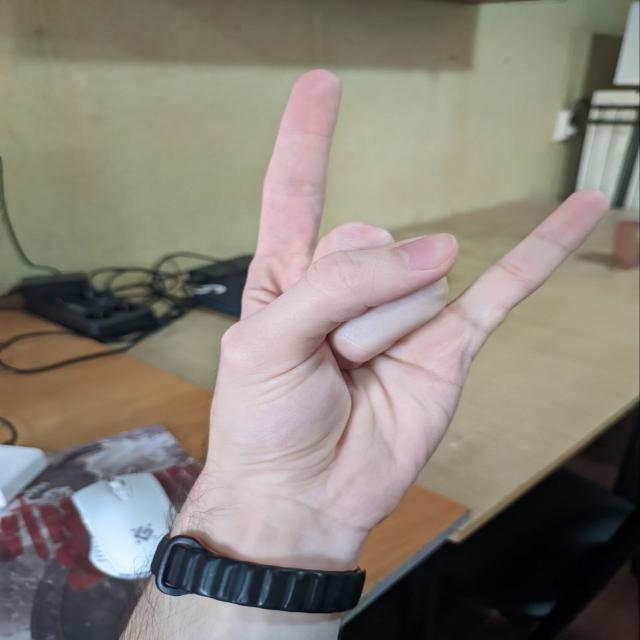y: (204, 65, 623, 475)
